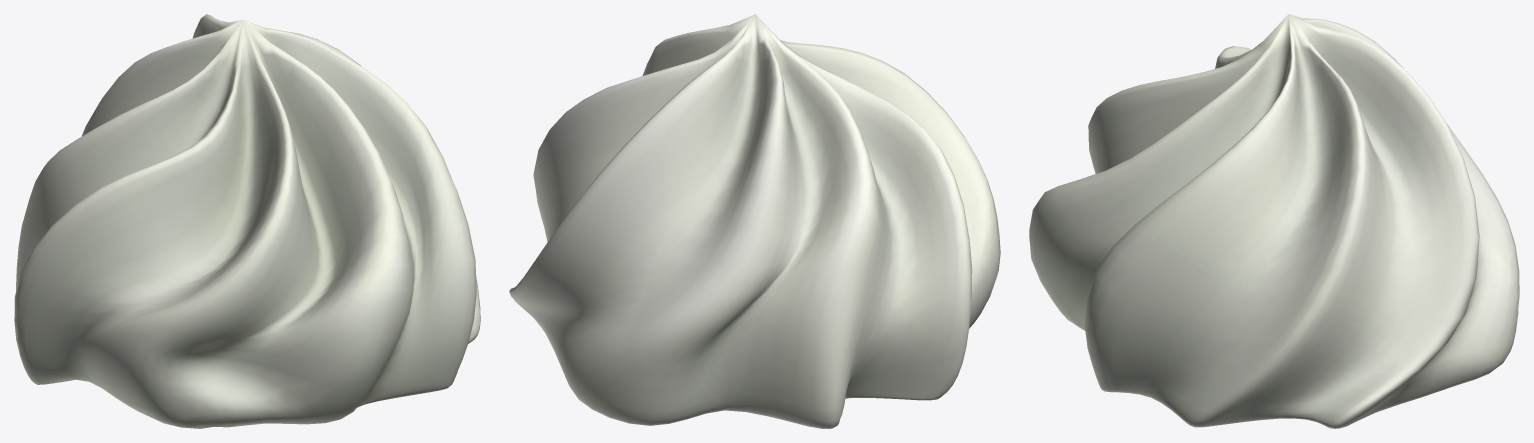
The model's file is Restaurant_Ice cream_ cream.FBX.
3 views of the same model, side by side, from view 1: azimuth 30°, elevation 25°; view 2: azimuth 150°, elevation 25°; view 3: azimuth 270°, elevation 25° (orthographic).
Visible parts, largest first — view 1: Restaurant_Ice cream_ cream; view 2: Restaurant_Ice cream_ cream; view 3: Restaurant_Ice cream_ cream.
Part boxes in pixels (x1,y1,x2,y2): Restaurant_Ice cream_ cream: [14, 14, 480, 428]; Restaurant_Ice cream_ cream: [509, 14, 1000, 428]; Restaurant_Ice cream_ cream: [1029, 14, 1519, 428].
Bounding box in the file's own units: 3.43 × 2.51 × 3.41.
